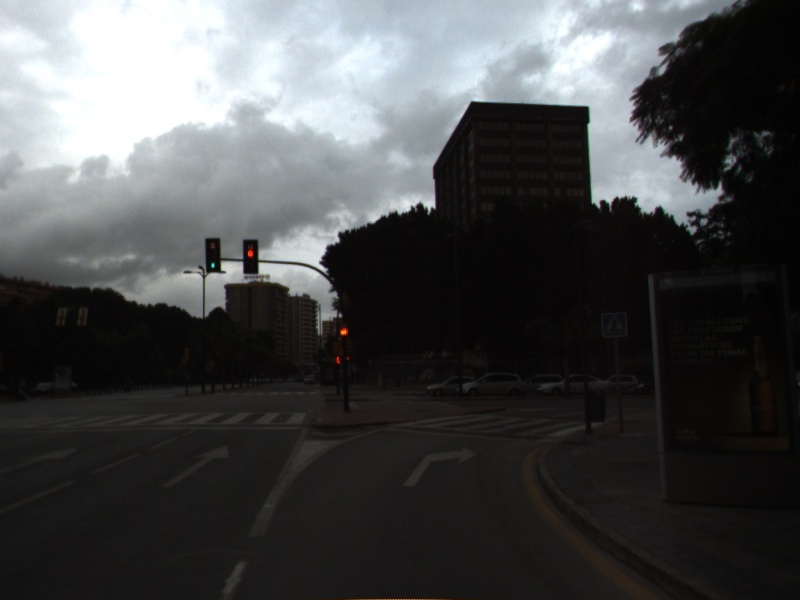RIGHT: (400, 444, 480, 489)
STRAIGHT: (161, 443, 230, 489), (1, 445, 80, 471)
